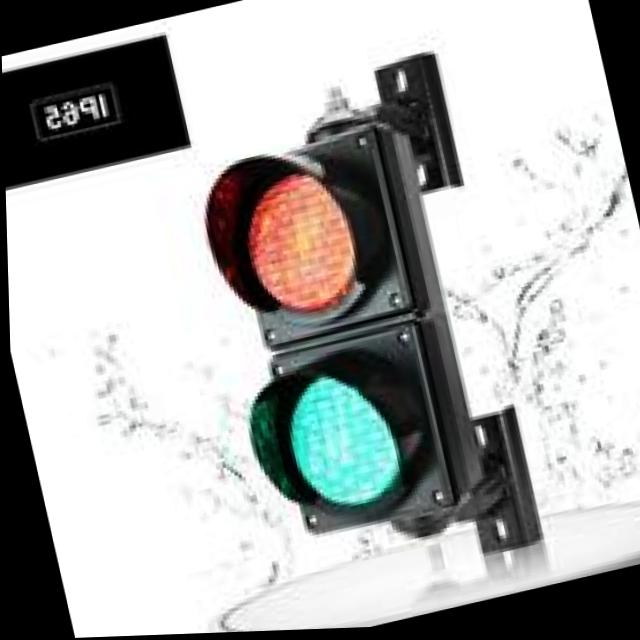red_light: (207, 141, 400, 338)
